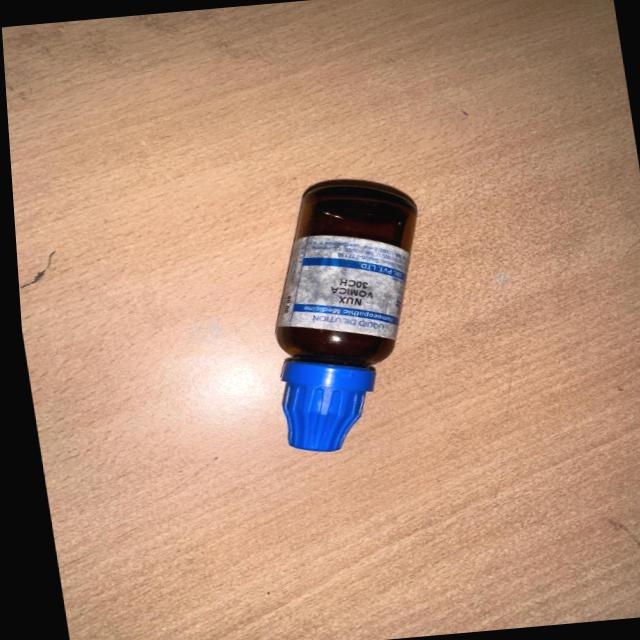medicine: (246, 178, 427, 463)
